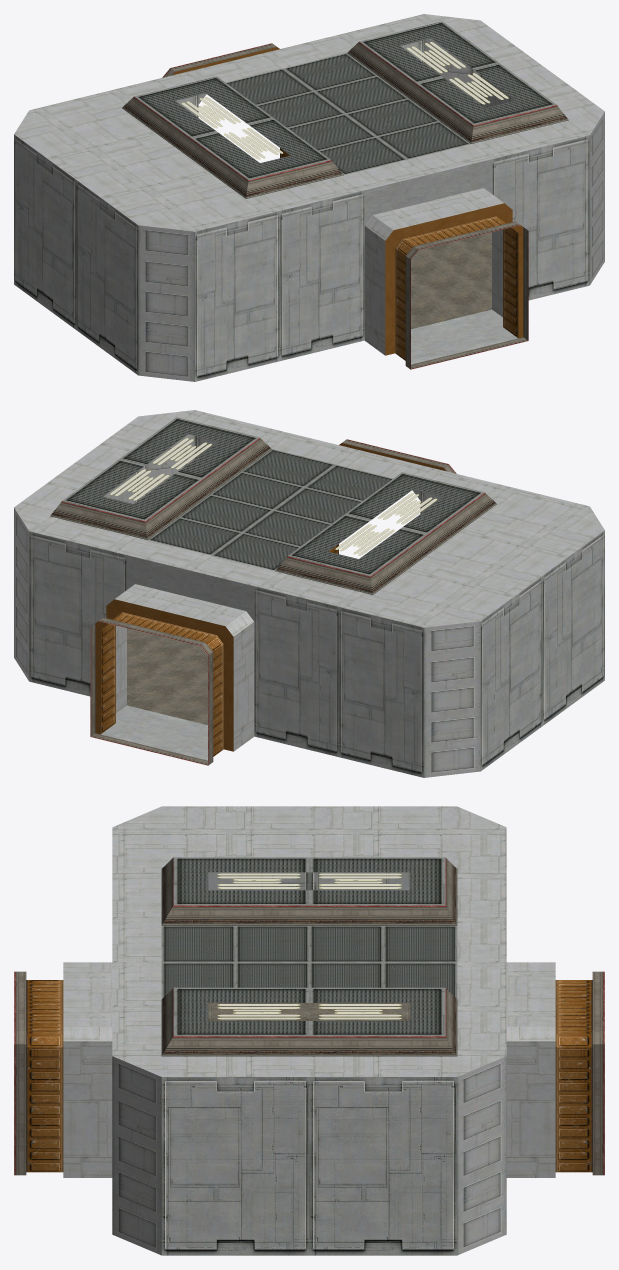
The model's file is mun_all_military_base_police_station_rebl_s01_r12_foyer2_mesh_r12.fbx.
3 renders of one model, top to bottom at view 1: azimuth 30°, elevation 25°; view 2: azimuth 150°, elevation 25°; view 3: azimuth 270°, elevation 25°, orthographic. The views are drawn at different scales.
Parts seen in each view (by area): view 1: mesh_node; view 2: mesh_node; view 3: mesh_node.
Boxes of the visible parts, bbox=[...] form: mesh_node: bbox=[14, 14, 604, 381]; mesh_node: bbox=[14, 410, 604, 777]; mesh_node: bbox=[14, 806, 604, 1255].
Bounding box in the file's own units: 13 × 4.36 × 12.
